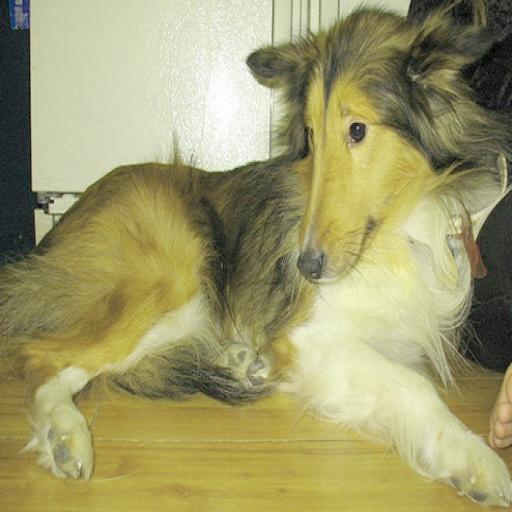dog_face: (251, 9, 468, 286)
